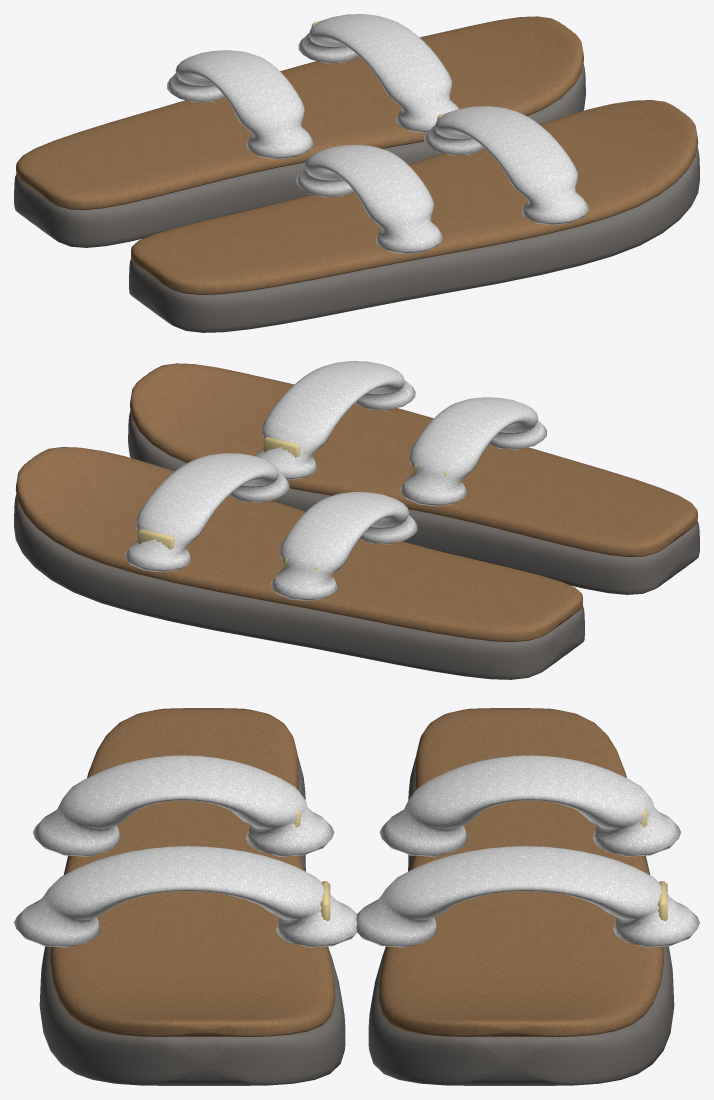
Rendered from sandals.glb.
3 renders of one model, top to bottom at view 1: azimuth 30°, elevation 25°; view 2: azimuth 150°, elevation 25°; view 3: azimuth 270°, elevation 25°, orthographic. The views are drawn at different scales.
Visible parts, largest first — view 1: sandal0_bed, sandal1_bed, sandal0_sole, sandal1_sole, sandal0_strap0, sandal1_strap0, sandal1_strap1, sandal0_strap1; view 2: sandal1_bed, sandal0_bed, sandal1_sole, sandal0_sole, sandal1_strap0, sandal0_strap0, sandal0_strap1, sandal1_strap1; view 3: sandal0_bed, sandal1_bed, sandal1_strap0, sandal0_strap0, sandal0_strap1, sandal1_strap1, sandal0_sole, sandal1_sole.
Boxes of the visible parts, x1,y1,x2,y2 form: sandal0_bed: (131,100,698,294); sandal1_bed: (16,16,583,209); sandal0_sole: (129,147,699,332); sandal1_sole: (14,63,585,247); sandal0_strap0: (424,106,588,225); sandal1_strap0: (298,14,458,132); sandal1_strap1: (167,50,313,159); sandal0_strap1: (296,145,442,253); sandal1_bed: (15,447,582,641); sandal0_bed: (130,363,697,556); sandal1_sole: (14,494,584,679); sandal0_sole: (128,410,699,594); sandal1_strap0: (125,453,289,572); sandal0_strap0: (255,361,415,479); sandal0_strap1: (400,397,546,506); sandal1_strap1: (271,492,417,600); sandal0_bed: (50,708,335,1036); sandal1_bed: (378,708,663,1036); sandal1_strap0: (356,846,699,947); sandal0_strap0: (14,846,356,947); sandal0_strap1: (33,755,334,856); sandal1_strap1: (379,755,680,856); sandal0_sole: (39,757,345,1085); sandal1_sole: (368,757,674,1085).
Bounding box in the file's own units: 27 × 5.16 × 22.43.
Materials: 4 (2 with a texture image).
